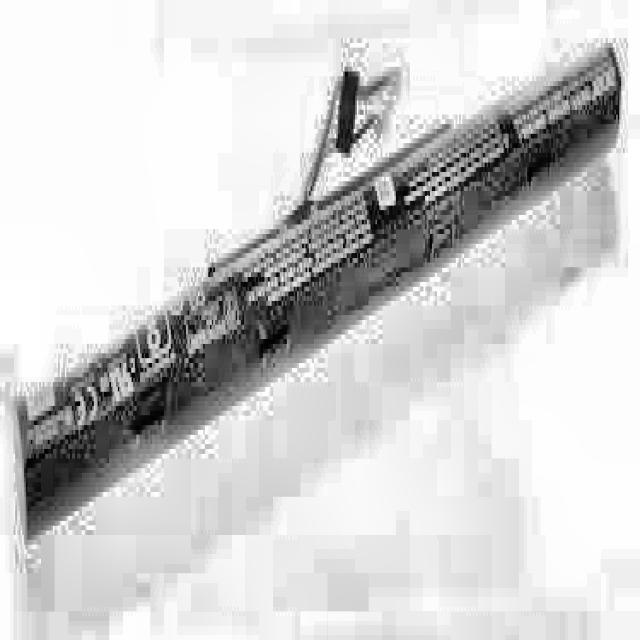Battery: (15, 14, 628, 550)
